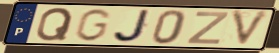0: (150, 9, 188, 45)
G: (73, 7, 114, 43)
J: (111, 9, 153, 44)
Q: (34, 6, 75, 42)
V: (230, 9, 272, 49)
Z: (184, 11, 231, 46)
